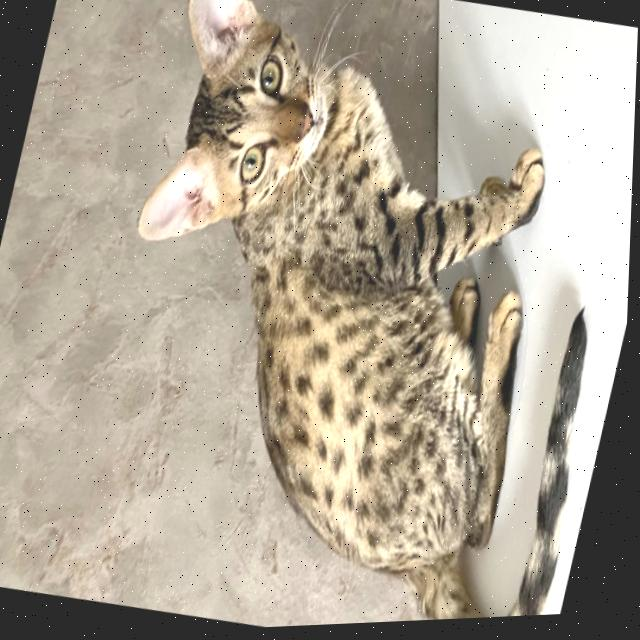Savannah: (48, 0, 640, 638)
